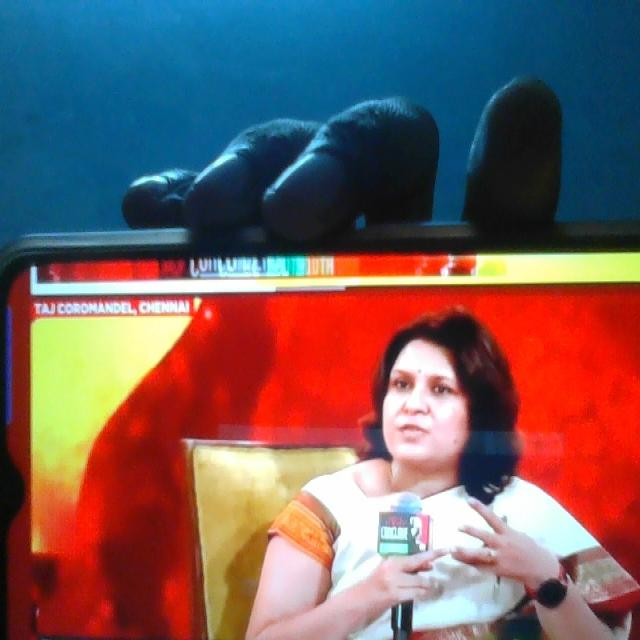fake: (375, 292, 480, 491)
